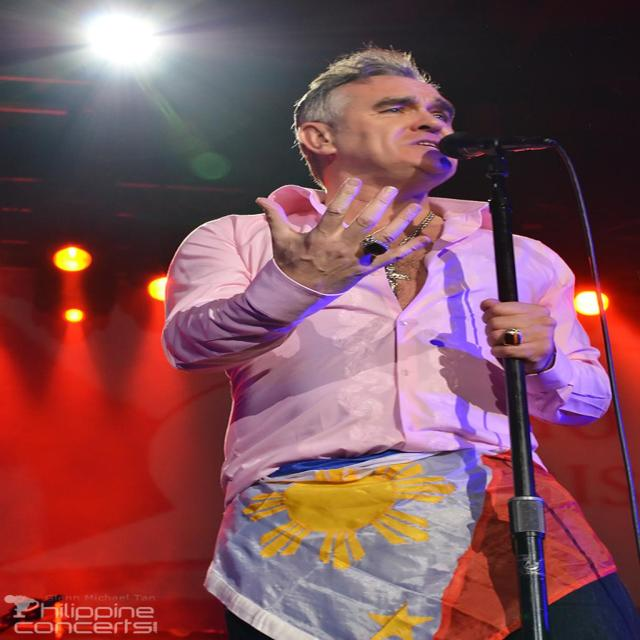Face: (298, 64, 461, 174)
